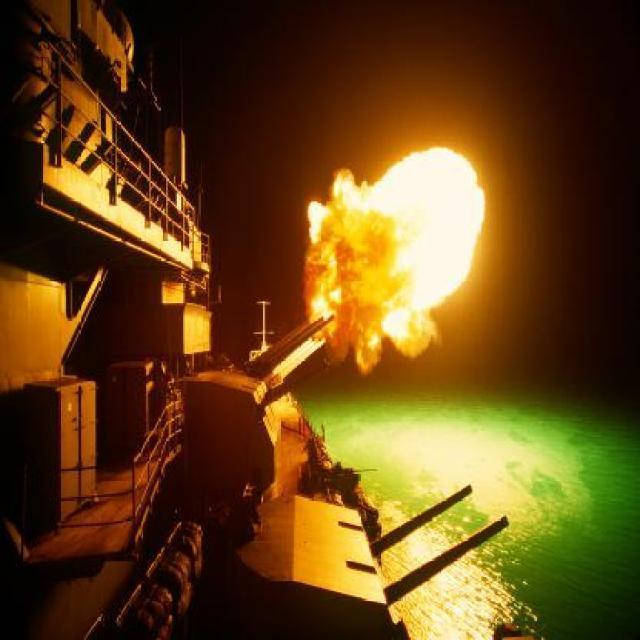Fire: (305, 147, 487, 310)
